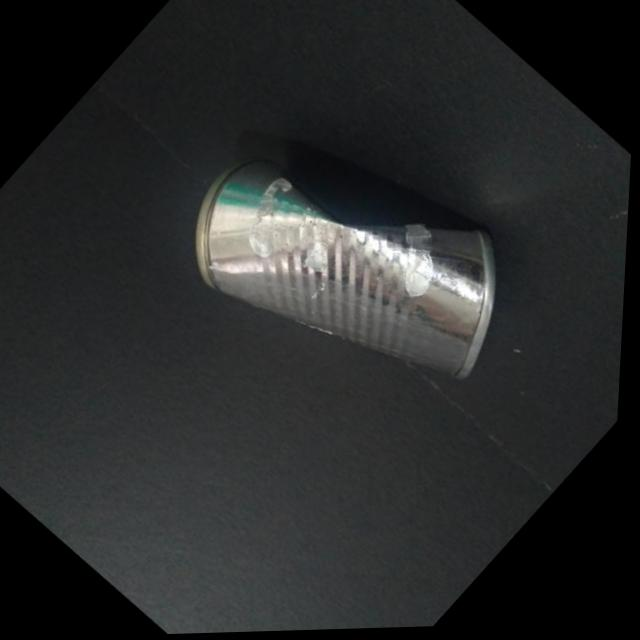metal: (196, 150, 521, 377)
